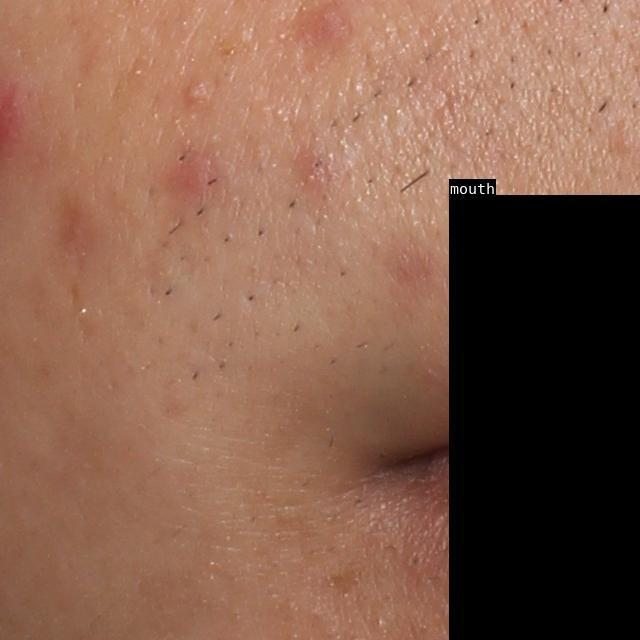comedo: (406, 550, 426, 572)
papule: (297, 146, 334, 194)
